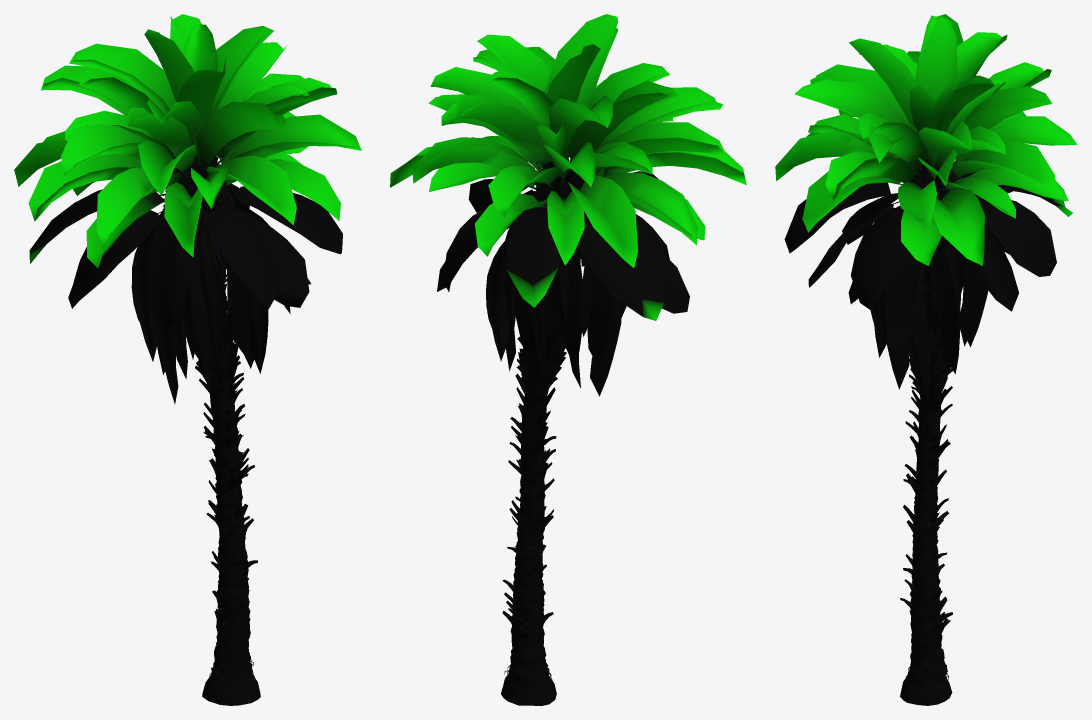
3 views of the same model, side by side, from view 1: azimuth 30°, elevation 25°; view 2: azimuth 150°, elevation 25°; view 3: azimuth 270°, elevation 25° (orthographic). The views are drawn at different scales.
Visible parts, largest first — view 1: SM_TR_DatePalm_19m_HD; view 2: SM_TR_DatePalm_19m_HD; view 3: SM_TR_DatePalm_19m_HD.
Boxes of the visible parts, x1,y1,x2,y2 form: SM_TR_DatePalm_19m_HD: (14, 14, 361, 705); SM_TR_DatePalm_19m_HD: (390, 14, 746, 705); SM_TR_DatePalm_19m_HD: (775, 14, 1077, 705).
Bounding box in the file's own units: 299 × 322 × 700.
